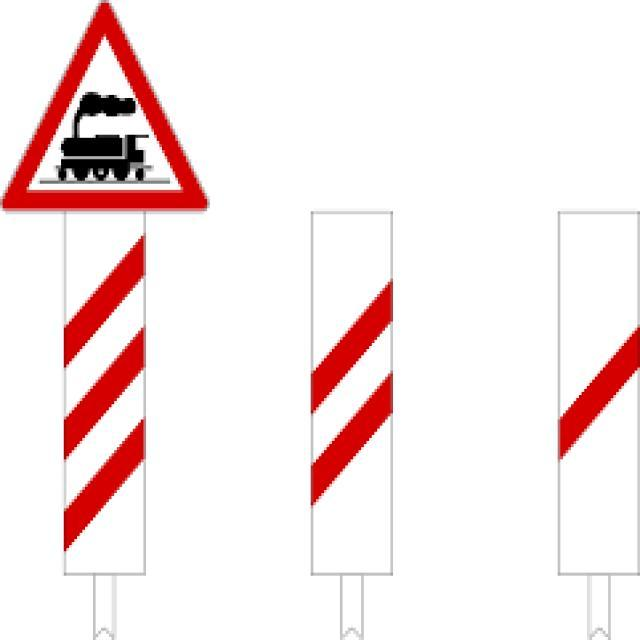unguarded level crossing: (16, 10, 195, 209)
